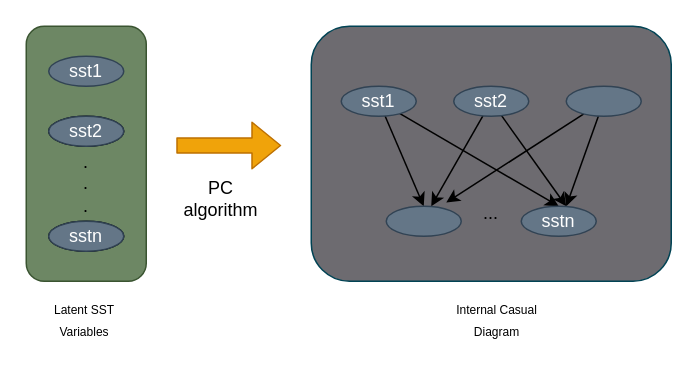
Some shapes in this 698 by 368 pixel diagram are drawn without their labels. Each missing label, with the centre of its shape:
sst3: pixel 603 100
sst4: pixel 423 220
